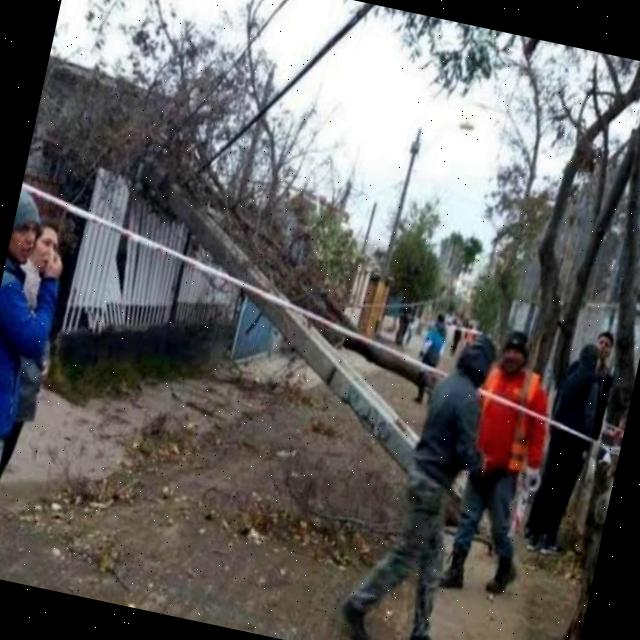Broken Pole: (134, 149, 422, 470)
